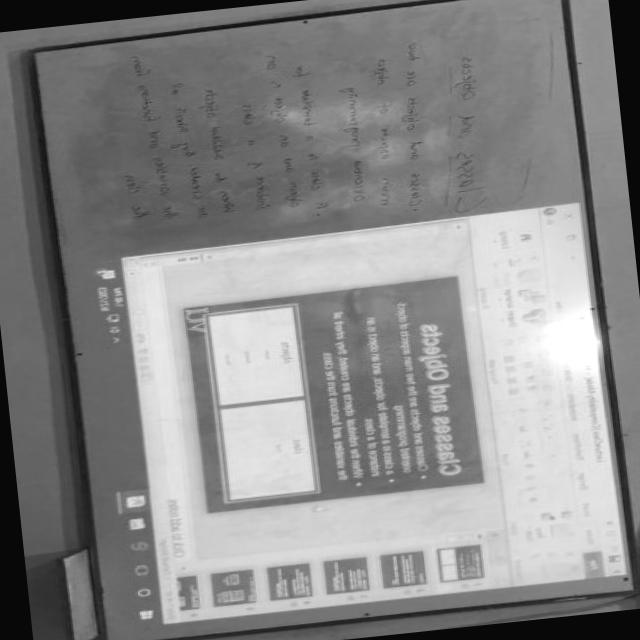Slide: (91, 201, 626, 627)
White-board: (28, 0, 640, 640)
